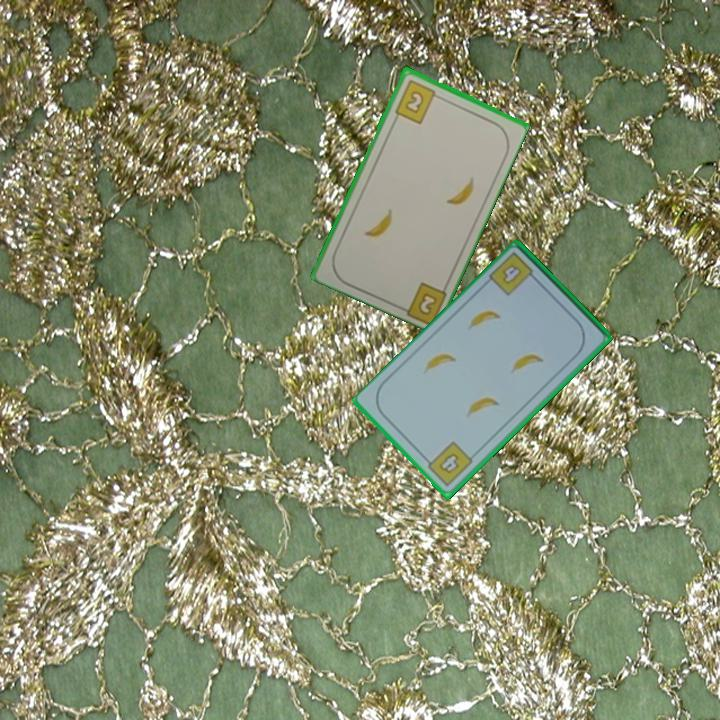2b: (391, 76, 443, 126), (414, 289, 440, 318)
4b: (421, 438, 476, 490), (486, 248, 541, 299)
